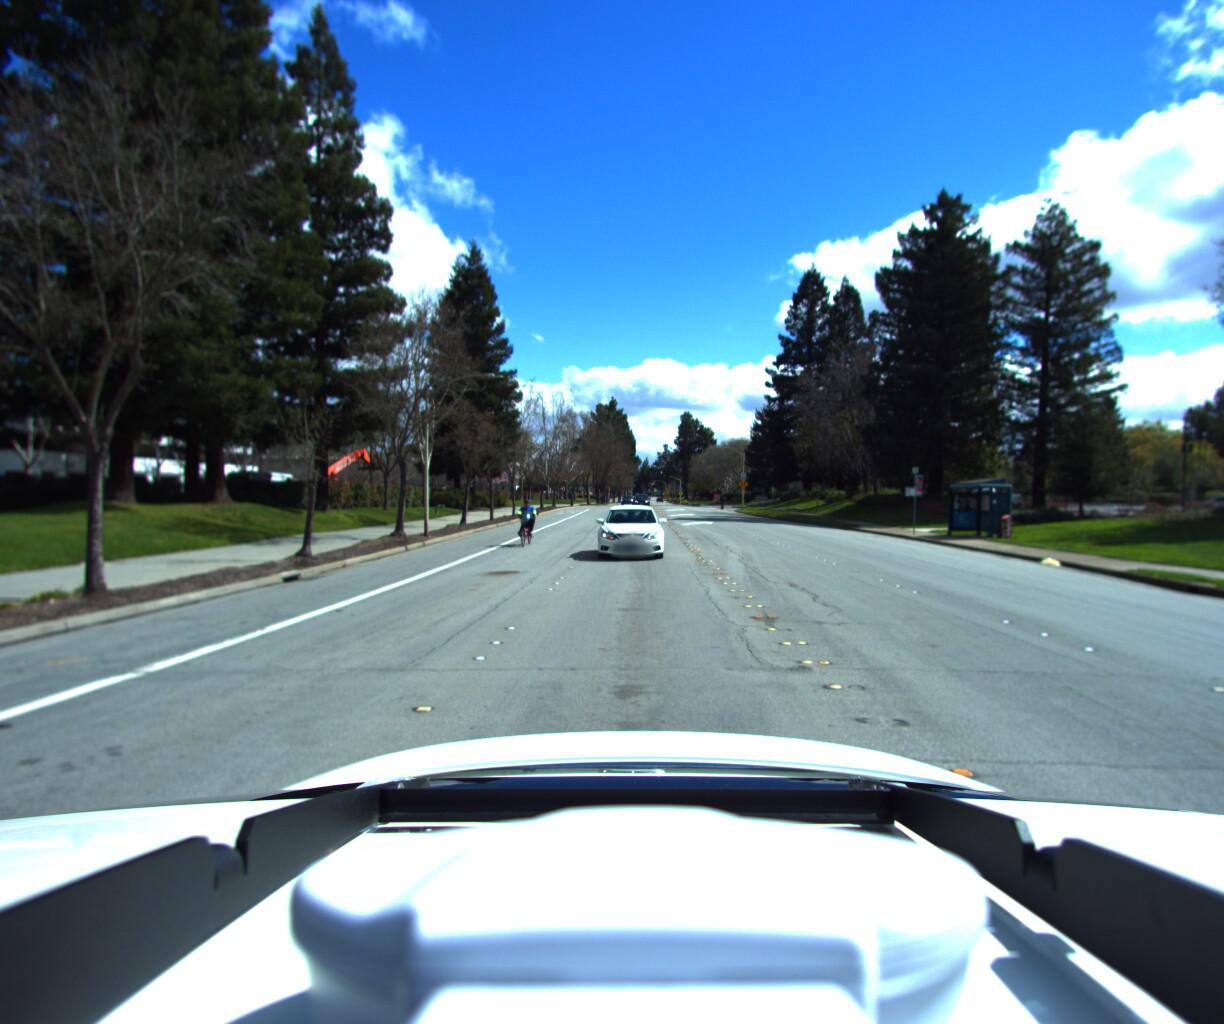bicycle: (509, 503, 539, 554)
car: (596, 510, 663, 570), (630, 501, 648, 516)
